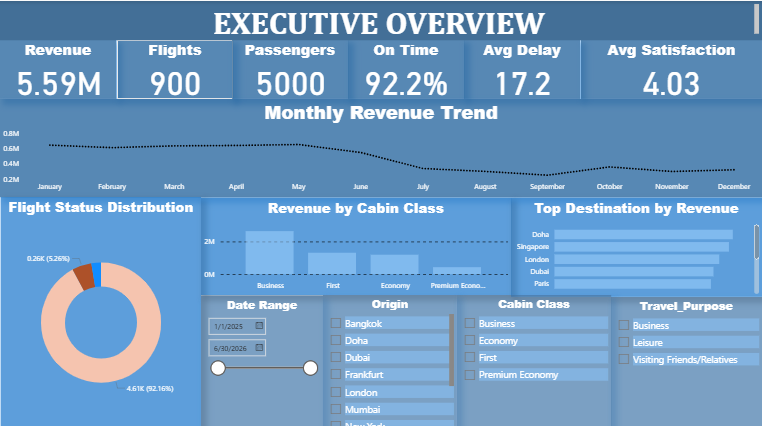

The page's visual inventory and layout, read from the dashboard file:
{"tool":"powerbi","page":{"name":"Executive Overview","canvas":[1280,720],"ordinal":0},"visuals":[{"type":"card","title":"Revenue","fields":{"Values":["AirlineData.Total Revenue"]},"box":[0,65.5,194.9,99.1],"z":0},{"type":"card","title":"Flights","fields":{"Values":["AirlineData.Total Flights"]},"box":[196.5,65.5,194.9,99.1],"z":1000},{"type":"card","title":"Passengers","fields":{"Values":["AirlineData.Total Passengers"]},"box":[389.7,65.5,194.9,99.1],"z":2000},{"type":"card","title":"On Time","fields":{"Values":["AirlineData.On Time Rate"]},"box":[584.6,65.5,194.9,99.1],"z":3000},{"type":"card","title":"Avg Delay","fields":{"Values":["AirlineData.Average Delay"]},"box":[779.4,65.5,194.9,99.1],"z":4000},{"type":"card","title":"Avg Satisfaction","fields":{"Values":["AirlineData.Average Satisfaction"]},"box":[976,65.5,304,99.1],"z":5000},{"type":"actionButton","box":[0,0,100,40],"z":6000},{"type":"lineChart","title":"Monthly Revenue Trend","fields":{"Category":["AirlineData.Flight_Date.Variation.Date Hierarchy.Month"],"Y":["AirlineData.Total Revenue"]},"box":[0,164.6,1280,164.6],"z":7000},{"type":"donutChart","title":"Flight Status Distribution","fields":{"Category":["AirlineData.Flight_Status"],"Y":["CountNonNull(AirlineData.Flight_ID)"]},"box":[1.7,329.2,336,389.7],"z":8000},{"type":"clusteredColumnChart","title":"Revenue by Cabin Class","fields":{"Category":["AirlineData.Cabin_Class"],"Y":["AirlineData.Total Revenue"]},"box":[337.6,330.9,520.7,162.9],"z":9000},{"type":"clusteredBarChart","title":"Top Destination by Revenue","fields":{"Category":["AirlineData.Destination"],"Y":["AirlineData.Total Revenue"]},"box":[858.4,330.9,421.6,166.3],"z":10000},{"type":"slicer","title":" Date Range","fields":{"Values":["AirlineData.Flight_Date"]},"box":[337.6,495.5,204.9,225.1],"z":11000},{"type":"slicer","title":"Origin","fields":{"Values":["AirlineData.Origin"]},"box":[542.6,493.9,225.1,225.1],"z":12000},{"type":"slicer","title":"Cabin Class","fields":{"Values":["AirlineData.Cabin_Class"]},"box":[767.7,493.9,258.7,225.1],"z":13000},{"type":"slicer","title":"Travel_Purpose","fields":{"Values":["AirlineData.Travel_Purpose"]},"box":[1026.4,497.2,253.6,221.7],"z":14000},{"type":"textbox","box":[0,0,1280,65.5],"z":15000}]}

Visuals, with their boxes in screenshot pixels (x1, y1, x2, y2), scaled from the page's 1280x720 canvas onto the 762x426 screenshot:
"Revenue" card: l=0, t=39, r=116, b=97
"Flights" card: l=117, t=39, r=233, b=97
"Passengers" card: l=232, t=39, r=348, b=97
"On Time" card: l=348, t=39, r=464, b=97
"Avg Delay" card: l=464, t=39, r=580, b=97
"Avg Satisfaction" card: l=581, t=39, r=761, b=97
actionButton: l=0, t=0, r=60, b=24
"Monthly Revenue Trend" lineChart: l=0, t=97, r=761, b=195
"Flight Status Distribution" donutChart: l=1, t=195, r=201, b=425
"Revenue by Cabin Class" clusteredColumnChart: l=201, t=196, r=511, b=292
"Top Destination by Revenue" clusteredBarChart: l=511, t=196, r=761, b=294
" Date Range" slicer: l=201, t=293, r=323, b=425
"Origin" slicer: l=323, t=292, r=457, b=425
"Cabin Class" slicer: l=457, t=292, r=611, b=425
"Travel_Purpose" slicer: l=611, t=294, r=761, b=425
textbox: l=0, t=0, r=761, b=39
